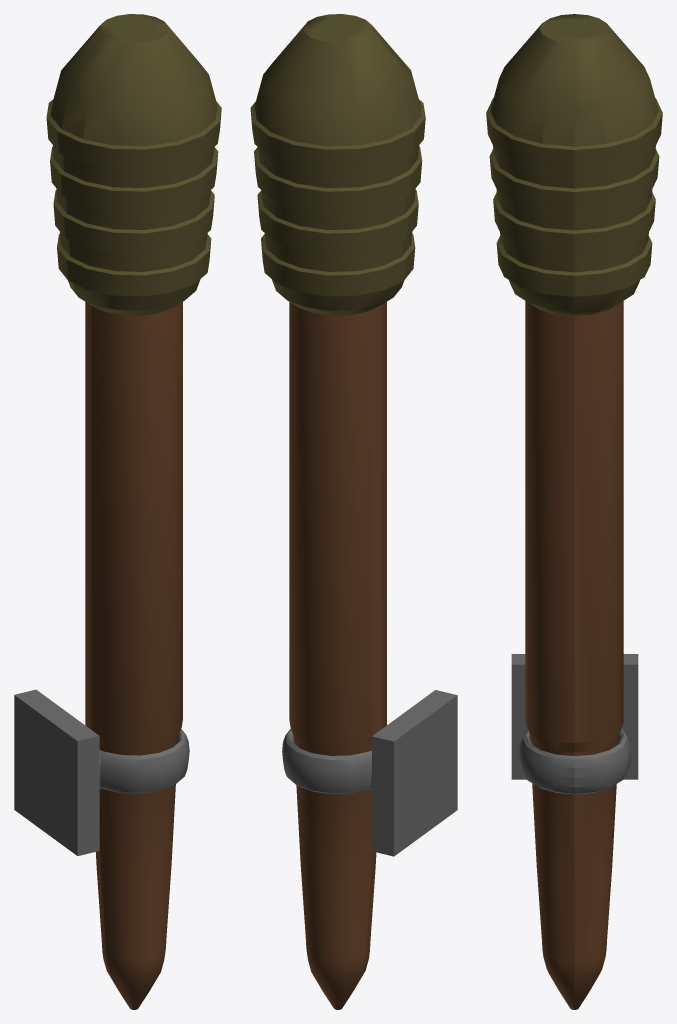
The model's file is Torch_RJ_11-10.fbx.
3 views of the same model, side by side, from view 1: azimuth 30°, elevation 25°; view 2: azimuth 150°, elevation 25°; view 3: azimuth 270°, elevation 25° (orthographic).
Parts seen in each view (by area): view 1: Torch; view 2: Torch; view 3: Torch.
Boxes of the visible parts, x1,y1,x2,y2 form: Torch: (14, 14, 221, 1009); Torch: (250, 14, 457, 1009); Torch: (486, 14, 662, 1009).
Bounding box in the file's own units: 27.86 × 159 × 25.93.
